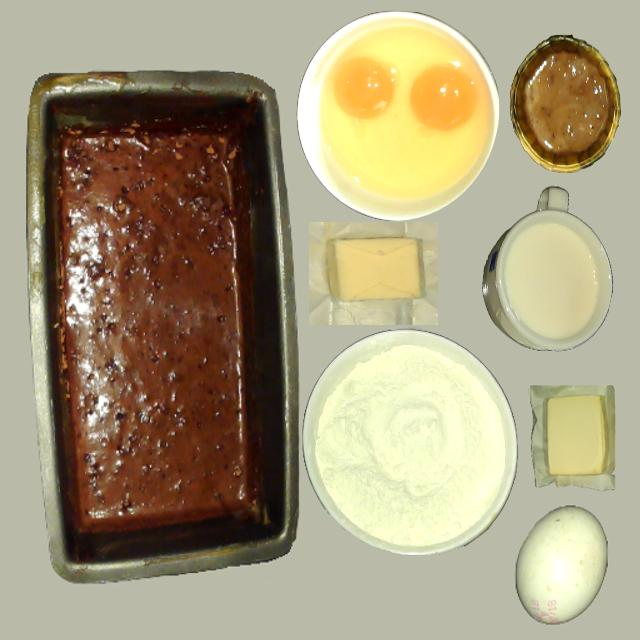Egg: (409, 64, 477, 131), (335, 56, 397, 120)
Flour: (302, 330, 514, 557)
Milk: (503, 222, 599, 343)
